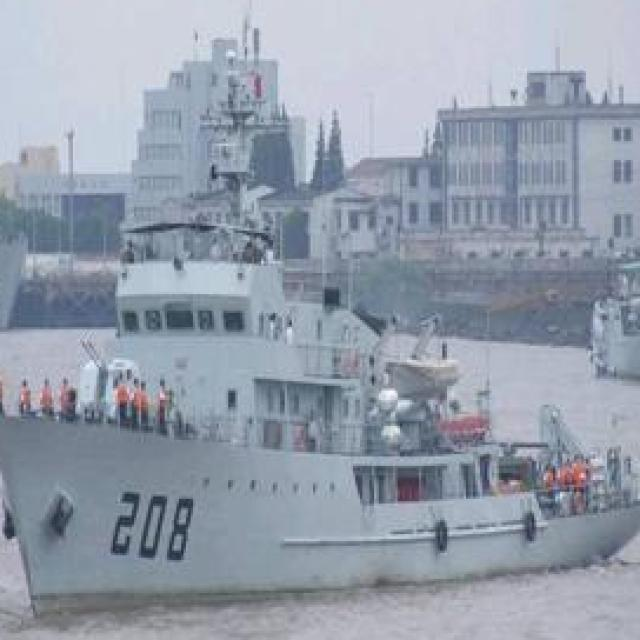passenger ship: (0, 172, 640, 607), (588, 221, 640, 372)
